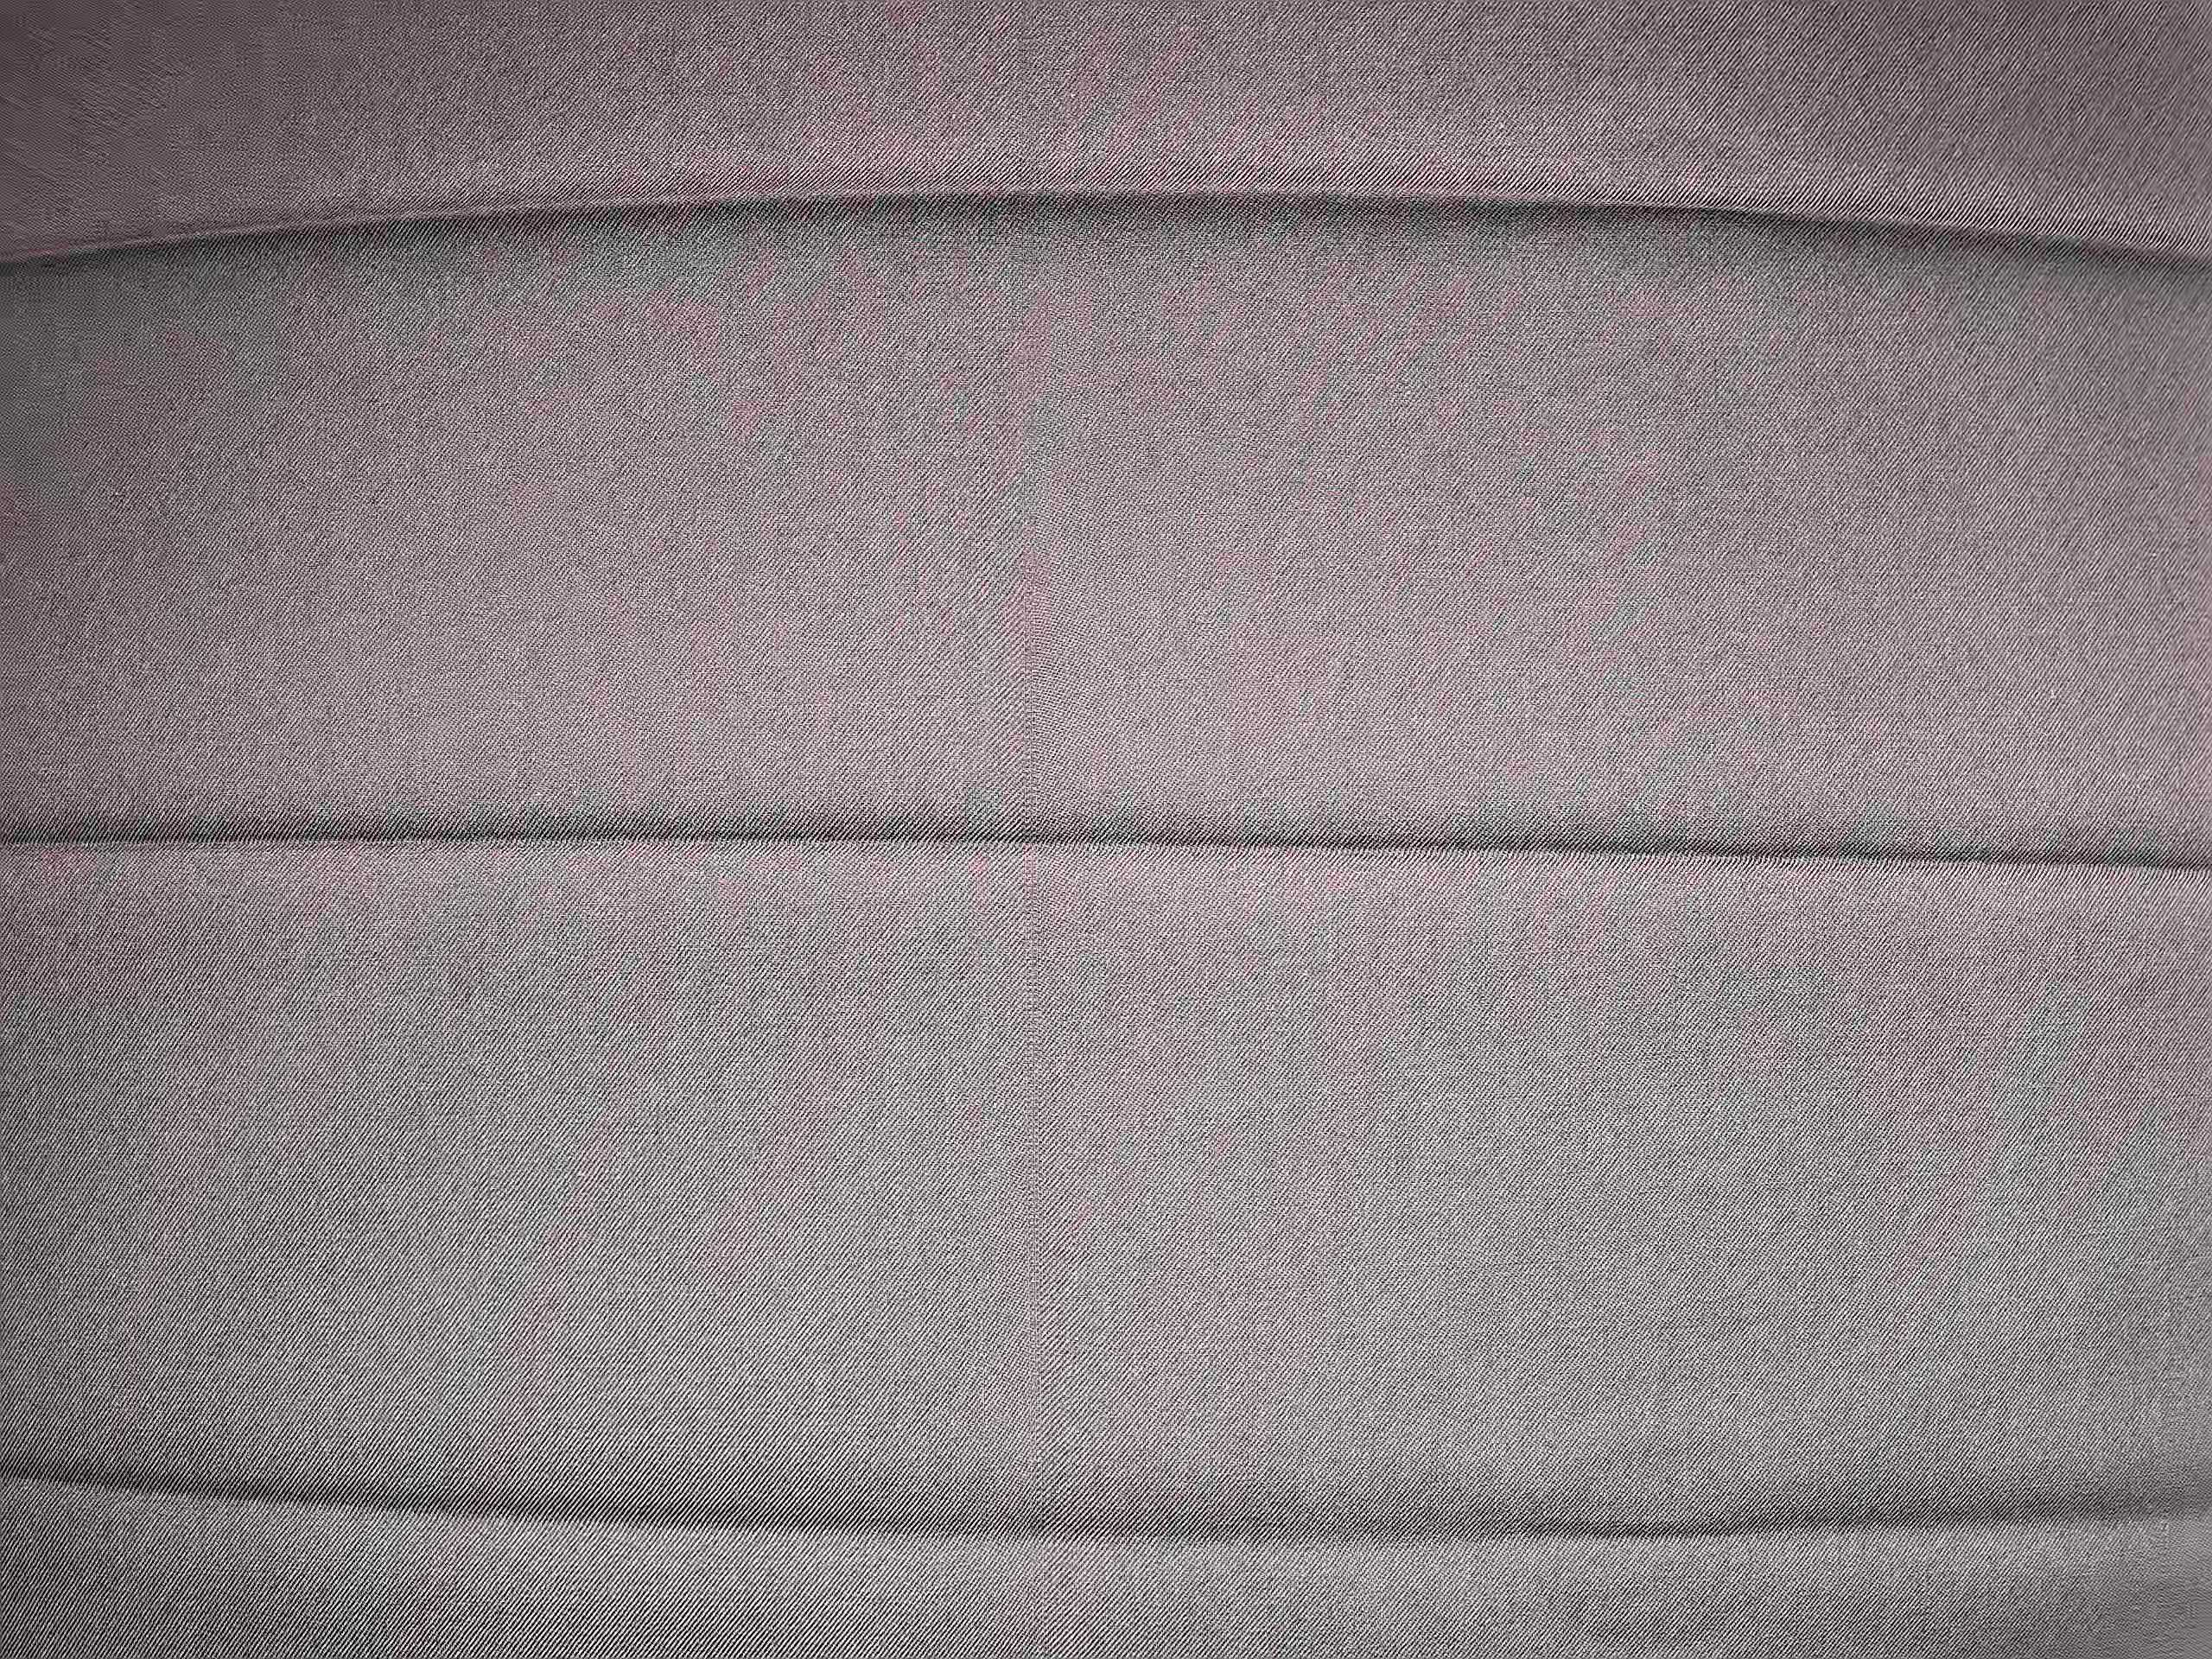hanging-warp: (998, 5, 1064, 1640)
